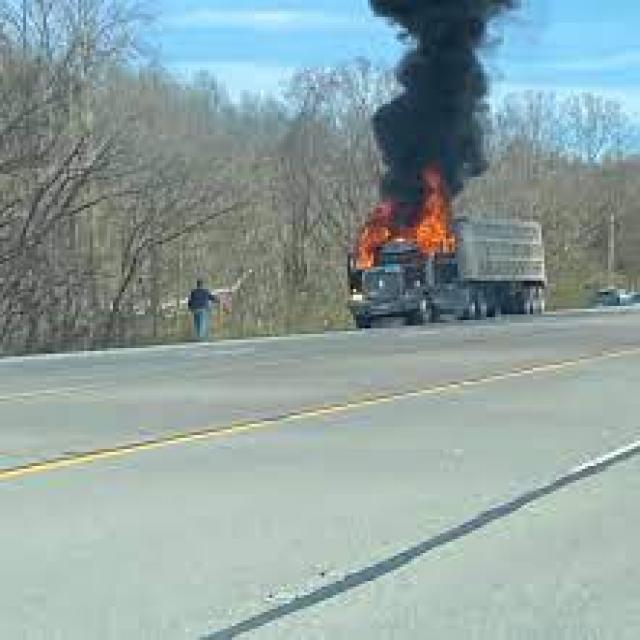fire: (420, 174, 455, 255), (353, 200, 391, 270)
smoke: (359, 3, 507, 202)
